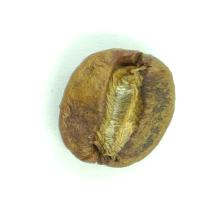NG: (73, 62, 169, 154)
